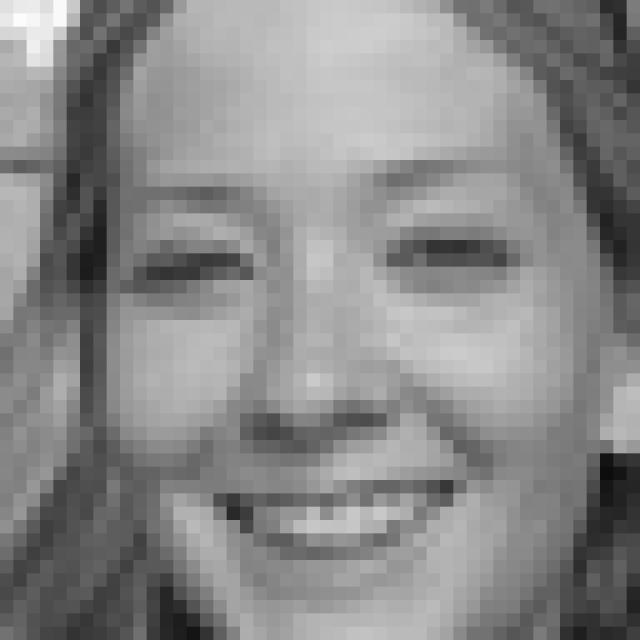happy: (118, 153, 543, 586)
